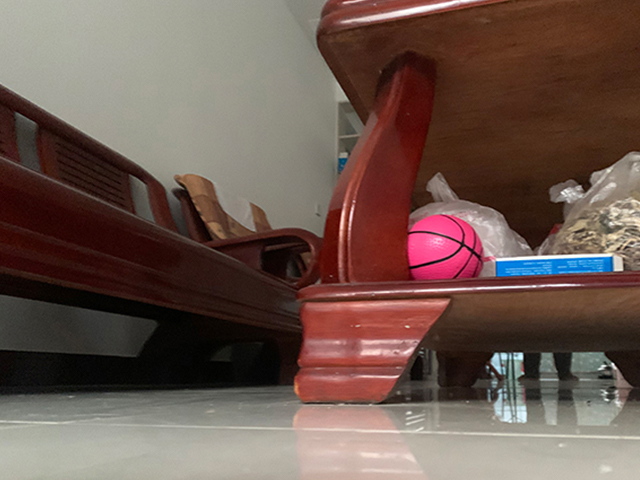sofa: (1, 81, 318, 386)
table: (294, 1, 640, 404)
